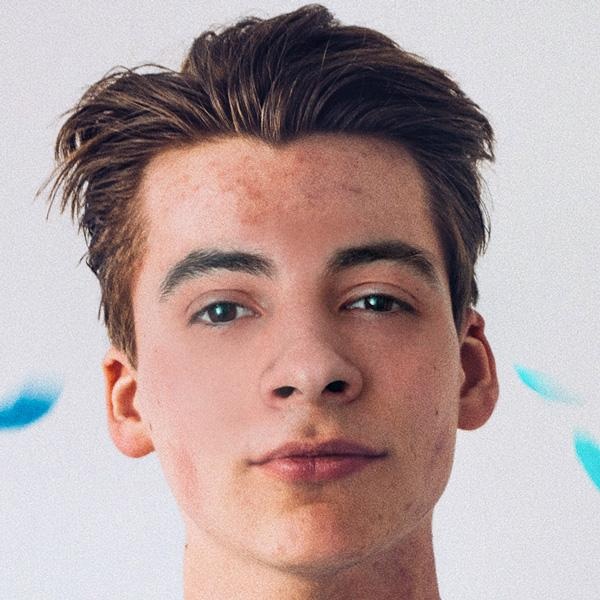Eyes: (174, 278, 278, 343), (327, 273, 426, 336)
